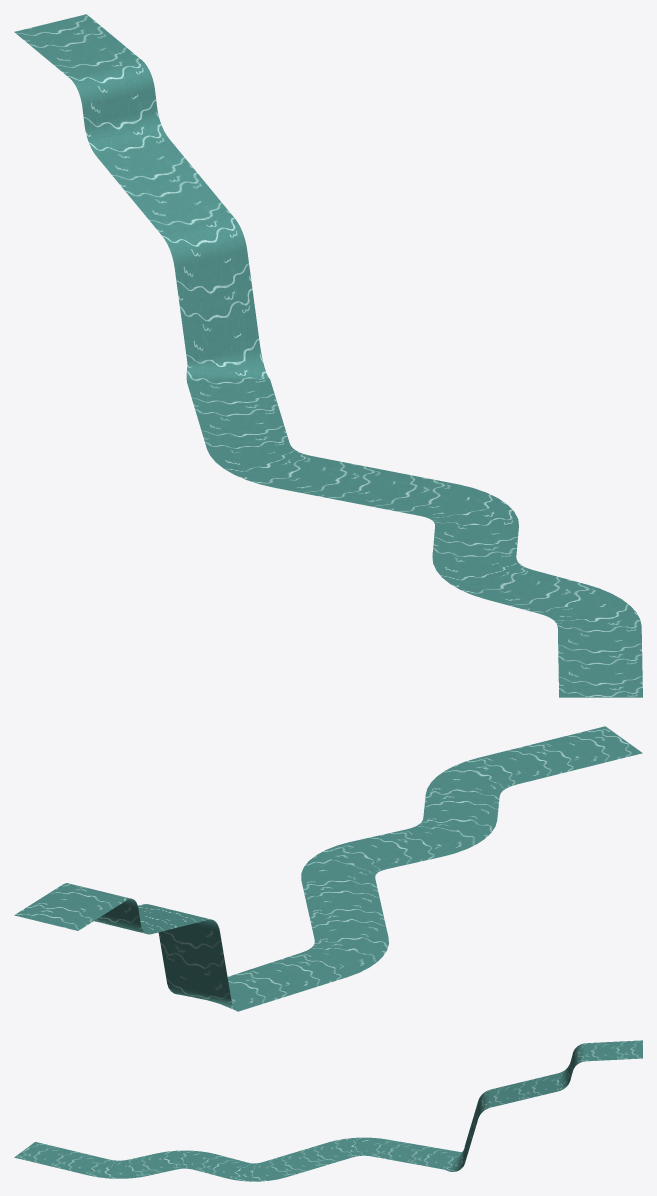
Rendered from WaterFall01.fbx.
3 renders of one model, top to bottom at view 1: azimuth 30°, elevation 25°; view 2: azimuth 150°, elevation 25°; view 3: azimuth 270°, elevation 25°, orthographic. The views are drawn at different scales.
Visible parts, largest first — view 1: WaterFall01; view 2: WaterFall01; view 3: WaterFall01.
Part boxes in pixels (<box>): WaterFall01: <box>14,14,642,697</box>; WaterFall01: <box>14,726,642,1011</box>; WaterFall01: <box>14,1040,642,1181</box>.
Size of the model in its own units: 1162 by 1413 by 7011.
Materials: 1 (1 with a texture image).
